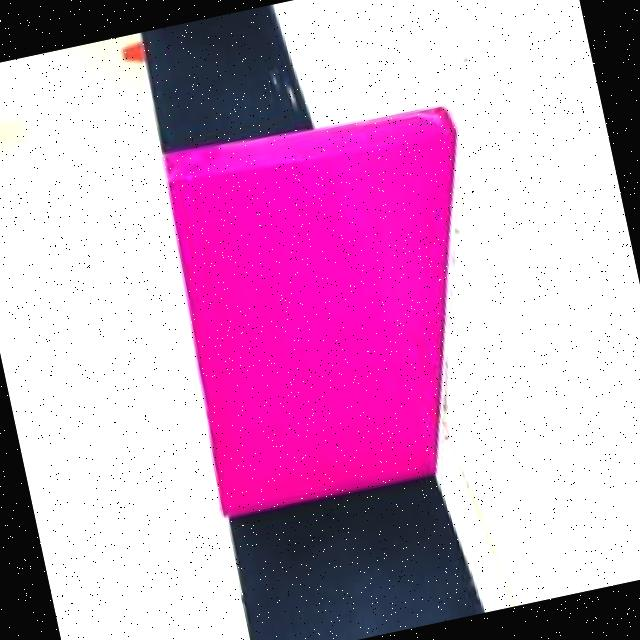xparking: (163, 98, 483, 516)
